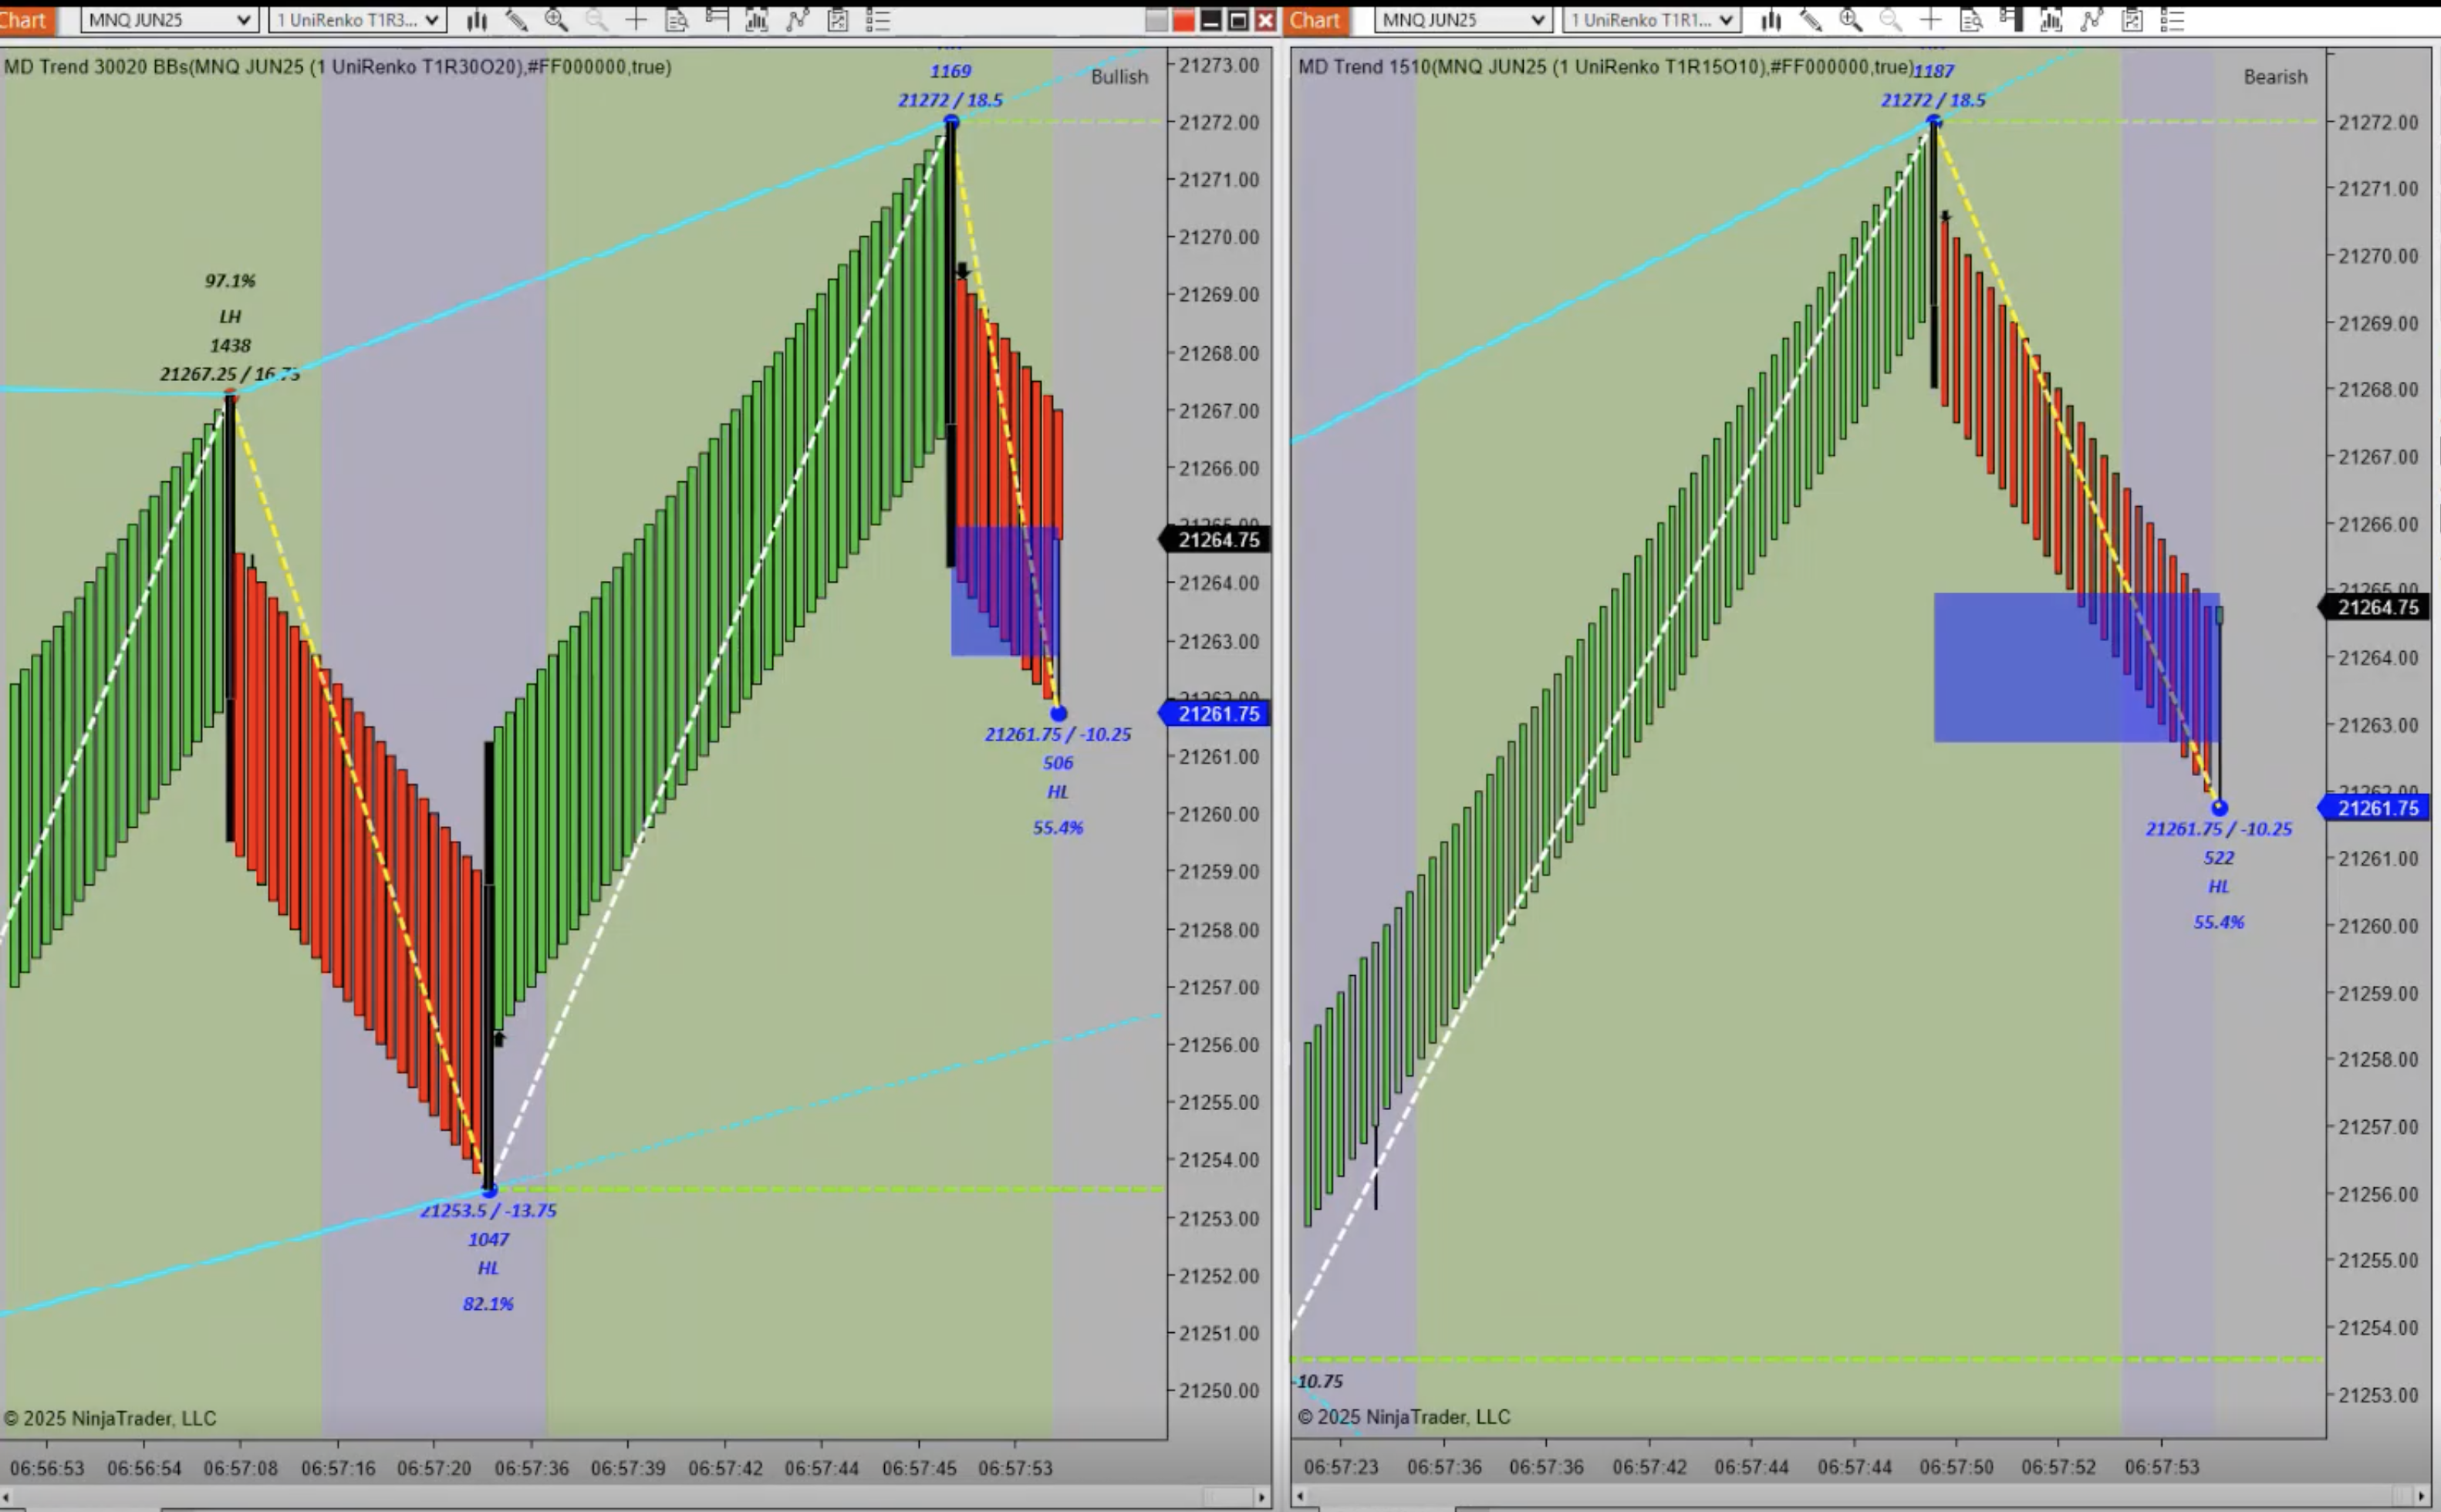candle: (225, 392, 241, 856), (945, 119, 959, 582), (483, 739, 497, 1195), (1928, 122, 1942, 396)
